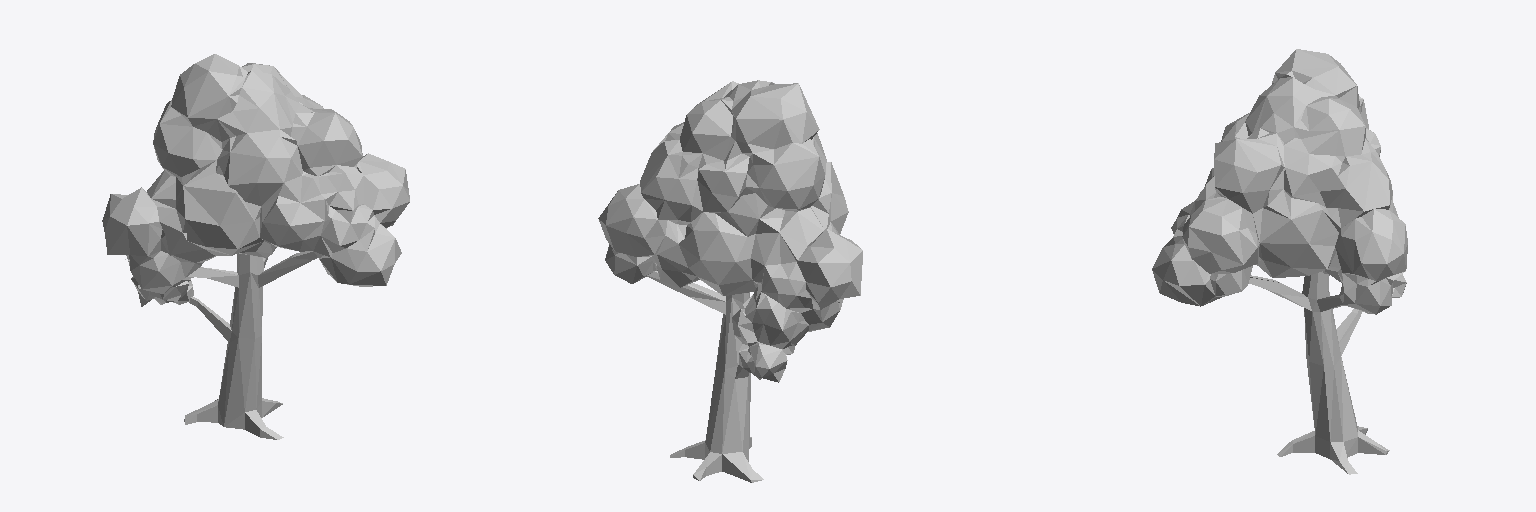
Rendered from tree6.obj.
3 renders of one model, left to right at view 1: azimuth 30°, elevation 25°; view 2: azimuth 150°, elevation 25°; view 3: azimuth 270°, elevation 25°, orthographic.
Visible parts, largest first — view 1: _6_tree; view 2: _6_tree; view 3: _6_tree.
Part boxes in pixels (left/top/right/bottom): _6_tree: left=102, top=54, right=409, bottom=439; _6_tree: left=598, top=80, right=862, bottom=482; _6_tree: left=1152, top=49, right=1407, bottom=474.
Bounding box in the file's own units: 1.74 × 2.6 × 1.6.